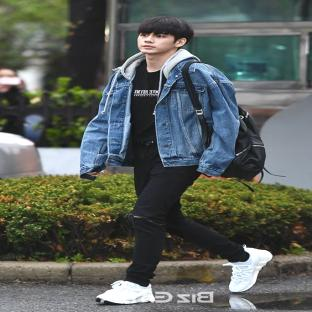Human: (80, 17, 272, 304)
